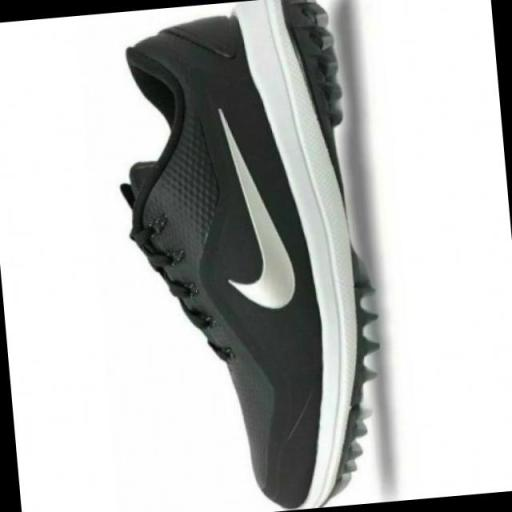Nike: (201, 93, 303, 320)
